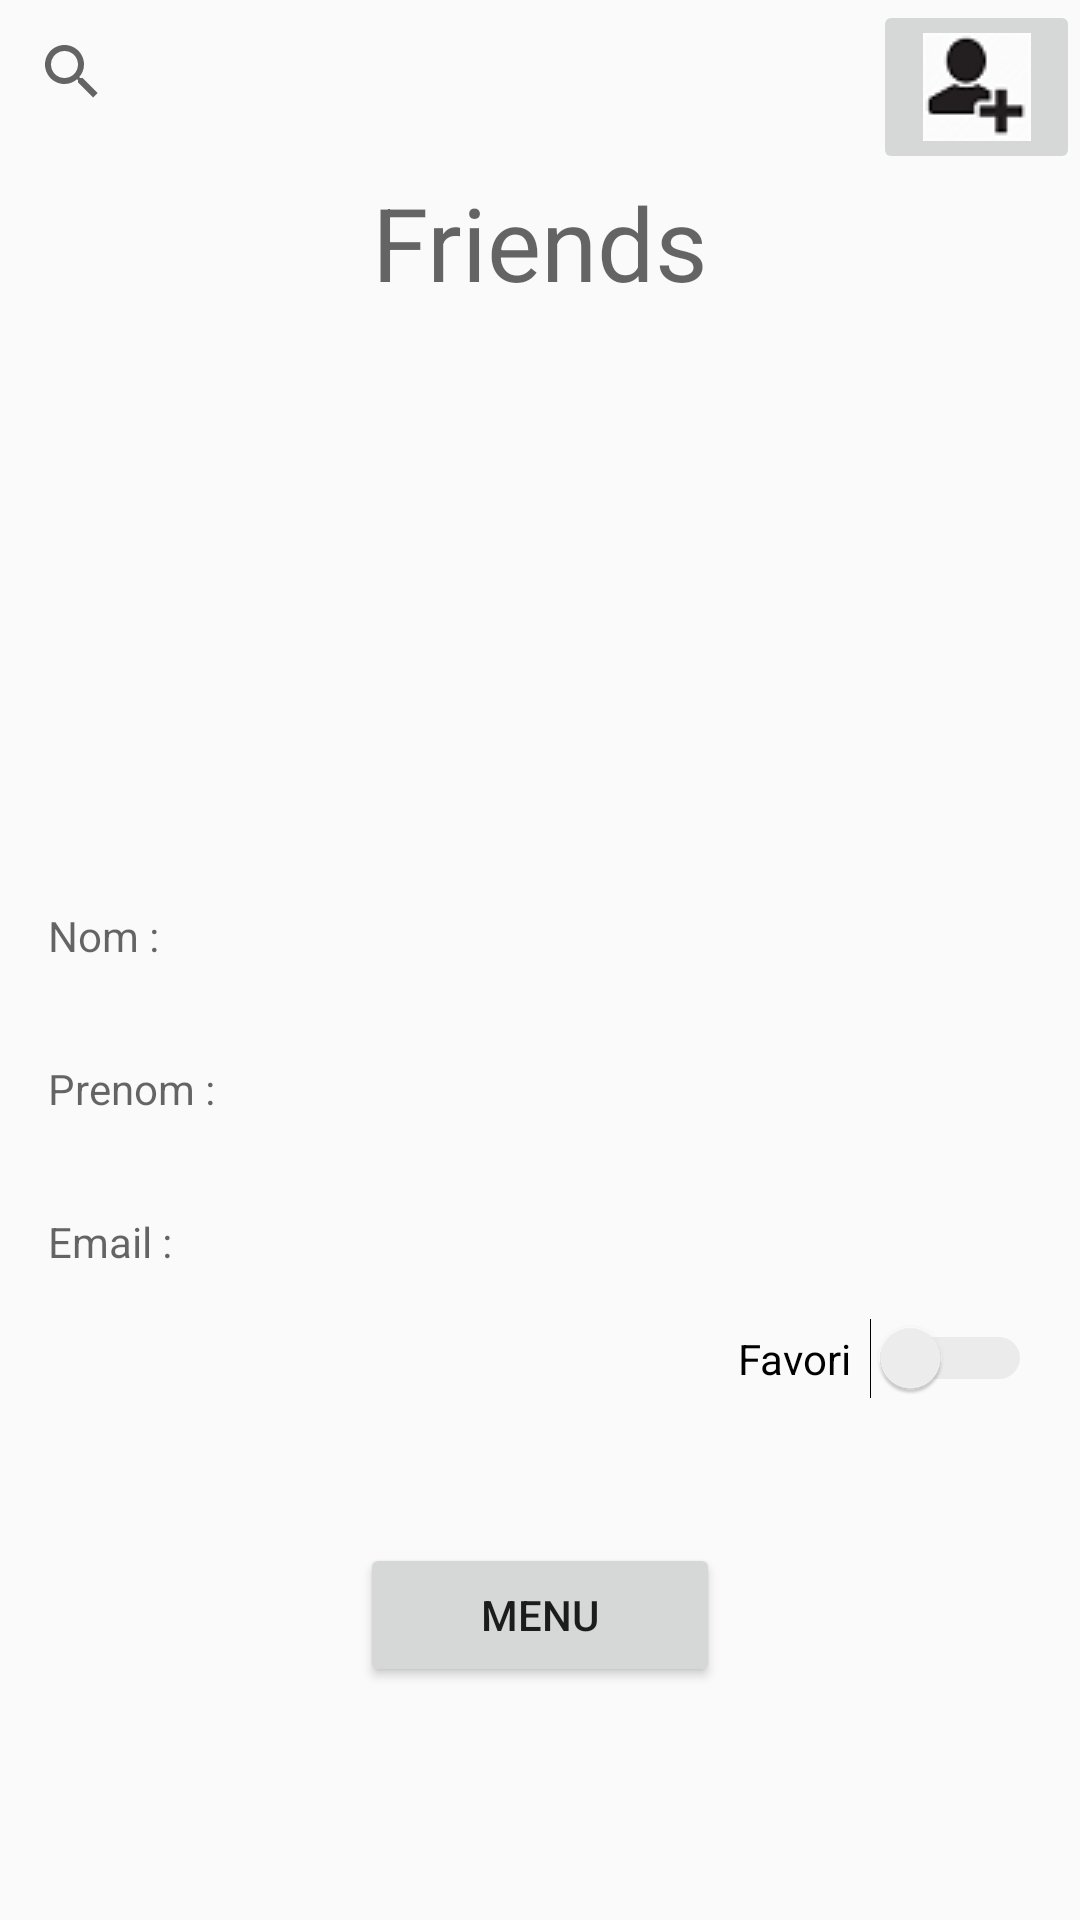

Icons on this 1080px×1920px Android screen, each with the point to tap as (x,y):
addfriend: (976,87)
